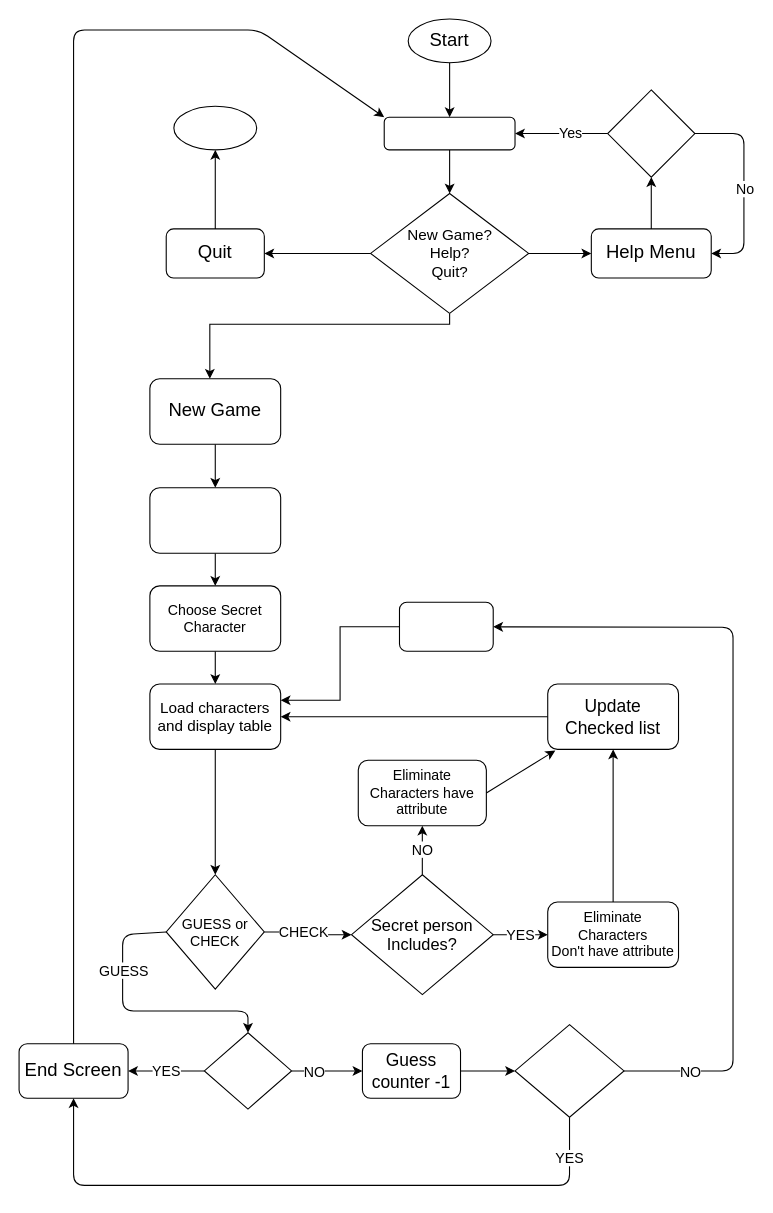
Image size: 773x1213. Some labels were removed from this diagram. The shapes that lost their labels are listed below. From the top down, each one's centre as x and y in pixels, then its label:
At [215,127]: "End".
At [449,133]: "Main Menu".
At [651,133]: "Quit?".
At [215,520]: "Set Guess counter".
At [445,626]: "Update Guessed list".
At [247,1070]: "Correct ?".
At [569,1070]: "Counter = 0?".
